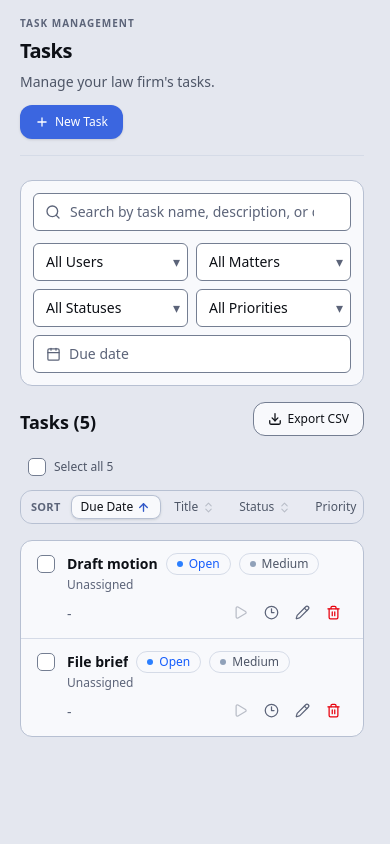
TasksGrid › select all › selects every matching task and reveals the bulk actions menu
Click the checkbox labelled "Select all 5".
click(71, 467)  # box [20,452,121,482]
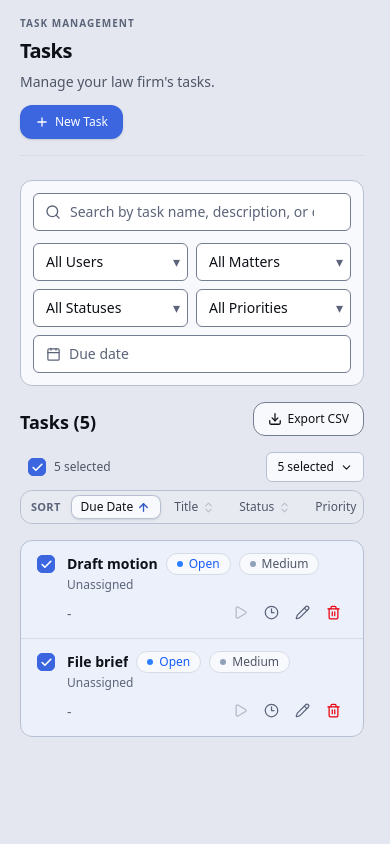
expect the button "5 selected" is shown: met, box [266,452,364,482]
